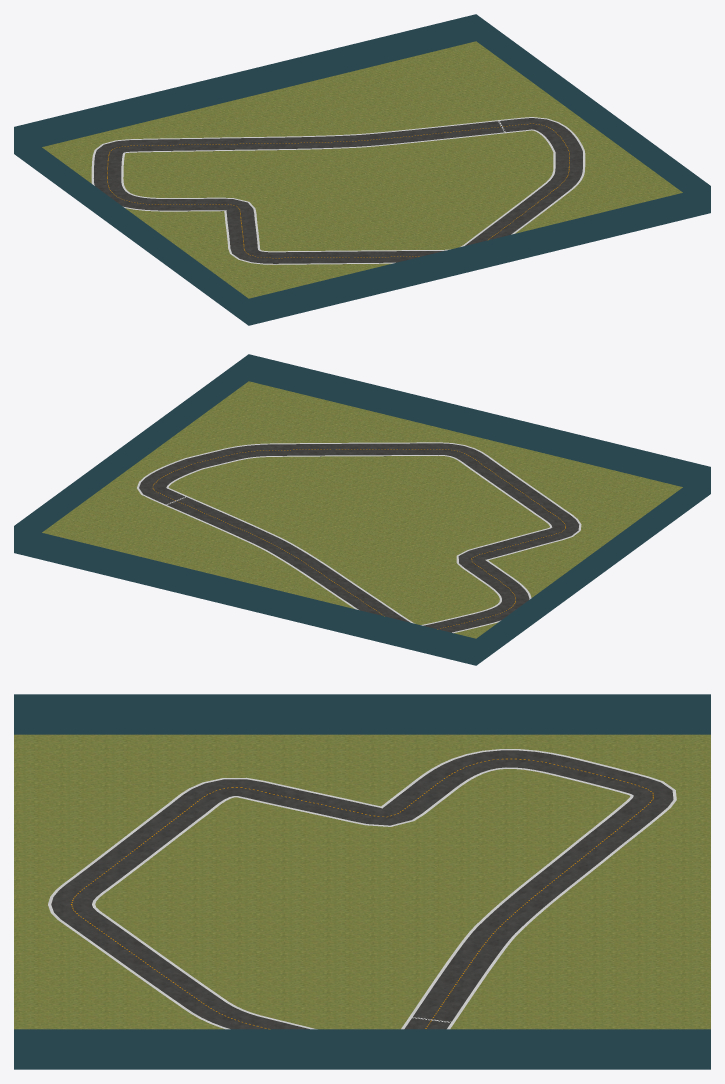
The model's file is 2022_september_open_ccw.dae.
The picture shows the model from 3 angles, top to bottom: view 1: azimuth 30°, elevation 25°; view 2: azimuth 150°, elevation 25°; view 3: azimuth 270°, elevation 25°; orthographic projection. The views are drawn at different scales.
Parts seen in each view (by area): view 1: field, wall, road, il, ol, cl; view 2: field, wall, road, il, ol, cl; view 3: field, wall, road, il, ol, cl.
Part boxes in pixels (box(x1,y1,x2,y2)): field: box(42, 41, 682, 298); wall: box(14, 14, 710, 325); road: box(93, 118, 582, 264); il: box(91, 117, 585, 264); ol: box(121, 129, 555, 252); cl: box(107, 123, 569, 258); field: box(42, 381, 682, 638); wall: box(14, 354, 710, 665); road: box(139, 443, 579, 632); il: box(137, 442, 581, 633); ol: box(166, 455, 552, 625); cl: box(152, 449, 565, 629); field: box(14, 734, 710, 1029); wall: box(14, 694, 710, 1069); road: box(51, 750, 673, 1029); il: box(48, 749, 676, 1029); ol: box(92, 767, 633, 1029); cl: box(71, 758, 653, 1029).
Bounding box in the file's own units: 17.84 × 15.69 × 1.
7 materials, 7 textured.
